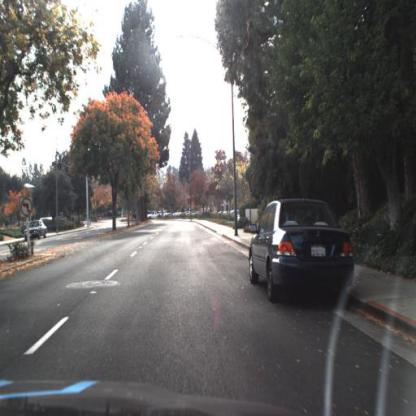car: (247, 198, 359, 302), (24, 221, 49, 239)
